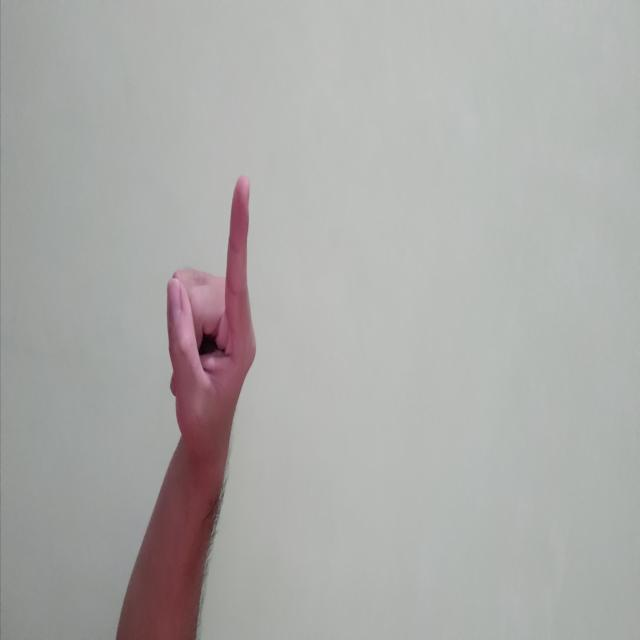Z: (172, 382, 452, 474)
